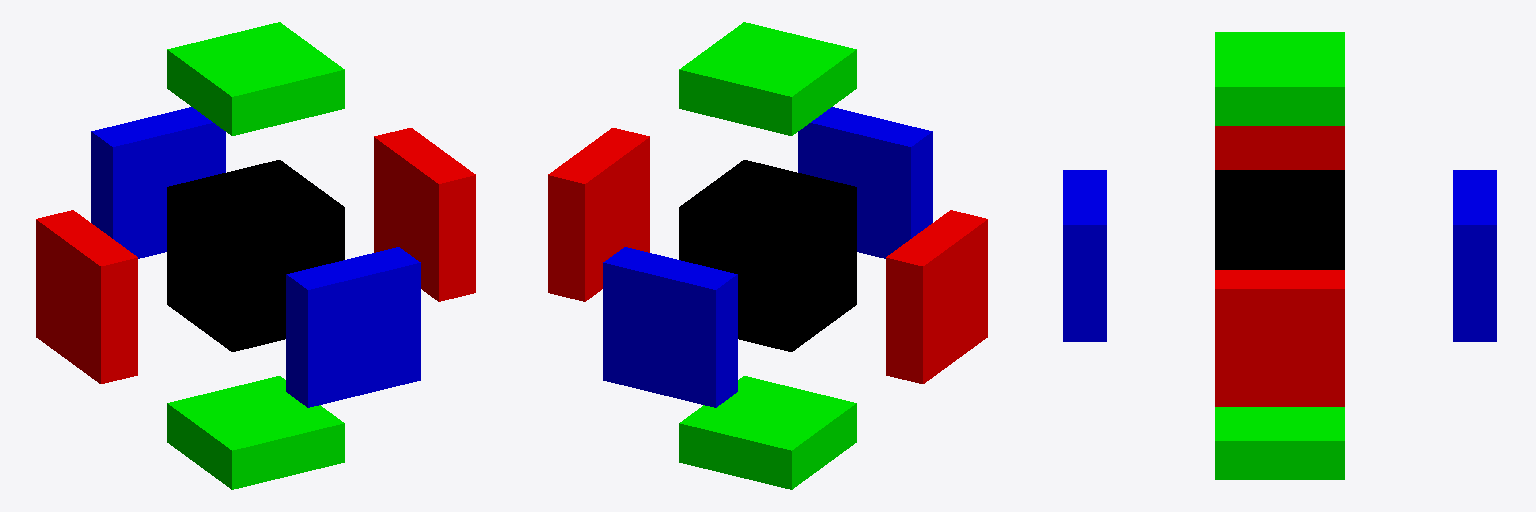
3 views of the same model, side by side, from view 1: azimuth 30°, elevation 25°; view 2: azimuth 150°, elevation 25°; view 3: azimuth 270°, elevation 25° (orthographic).
Parts seen in each view (by area): view 1: center, south, west, up, down, east, north; view 2: center, north, west, up, down, east, south; view 3: east, center, up, down, south, north, west.
Boxes of the visible parts, x1,y1,x2,y2 form: center: [167, 160, 344, 351]; south: [286, 247, 420, 407]; west: [36, 210, 137, 383]; up: [167, 22, 344, 135]; down: [167, 376, 344, 489]; east: [374, 128, 475, 301]; north: [91, 107, 225, 258]; center: [679, 160, 856, 351]; north: [603, 247, 737, 407]; west: [886, 210, 987, 383]; up: [679, 22, 856, 135]; down: [679, 376, 856, 489]; east: [548, 128, 649, 301]; south: [798, 107, 932, 258]; east: [1215, 270, 1344, 406]; center: [1215, 170, 1344, 269]; up: [1215, 32, 1344, 125]; down: [1215, 407, 1344, 479]; south: [1063, 170, 1106, 341]; north: [1453, 170, 1496, 341]; west: [1215, 126, 1344, 169].
Bounding box in the file's own units: 1 × 1 × 1.